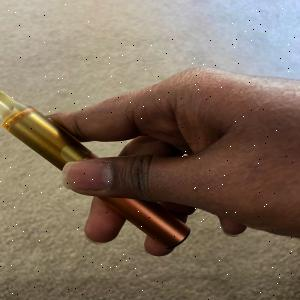Golden-E-Ciggirate: (0, 89, 203, 257)
